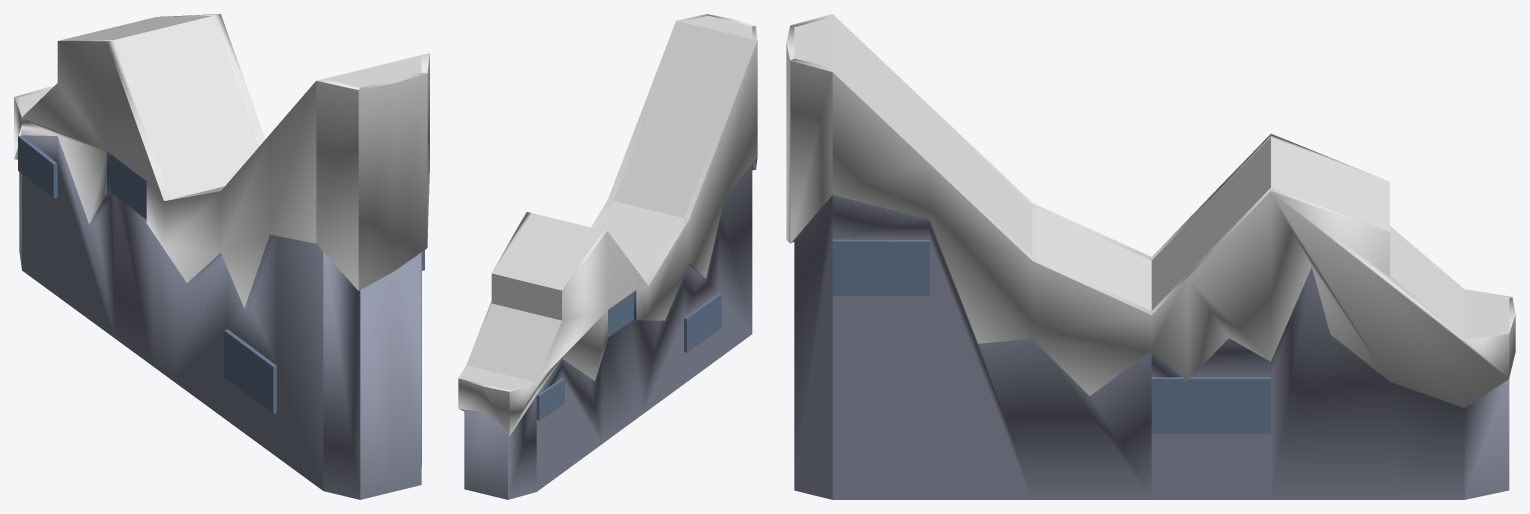
File: CastleWall_ruins_snow.fbx
The picture shows the model from 3 angles, left to right: view 1: azimuth 30°, elevation 25°; view 2: azimuth 150°, elevation 25°; view 3: azimuth 270°, elevation 25°; orthographic projection. The views are drawn at different scales.
Parts seen in each view (by area): view 1: Куб.001; view 2: Куб.001; view 3: Куб.001.
Boxes of the visible parts, x1=… form: Куб.001: x1=14, y1=14, x2=429, y2=499; Куб.001: x1=458, y1=14, x2=757, y2=499; Куб.001: x1=786, y1=14, x2=1515, y2=499.
Size of the model in its own units: 116 by 400 by 612.
